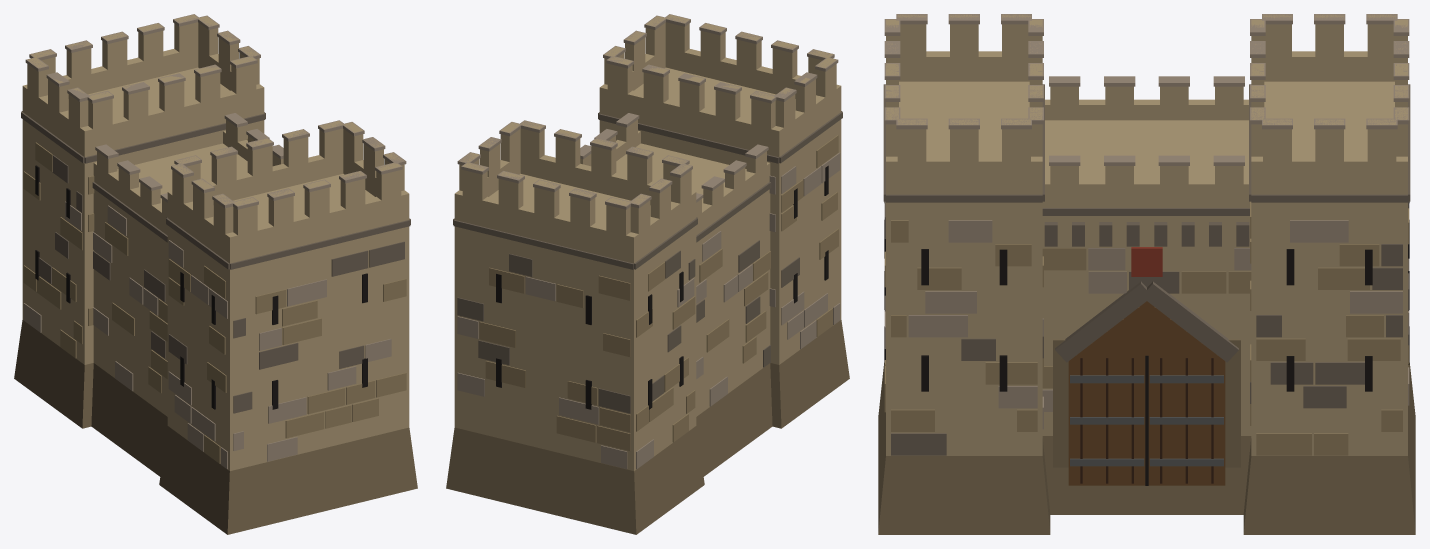
File: fort_masonry_gate.glb
The picture shows the model from 3 angles, left to right: view 1: azimuth 30°, elevation 25°; view 2: azimuth 150°, elevation 25°; view 3: azimuth 270°, elevation 25°; orthographic projection. The views are drawn at different scales.
Parts seen in each view (by area): view 1: fort_masonry_gate; view 2: fort_masonry_gate; view 3: fort_masonry_gate.
Boxes of the visible parts, left/top/right/bottom form: fort_masonry_gate: left=14, top=14, right=417, bottom=534; fort_masonry_gate: left=446, top=14, right=849, bottom=534; fort_masonry_gate: left=878, top=14, right=1415, bottom=534.
Size of the model in its own units: 10.6 by 17.2 by 20.6.
